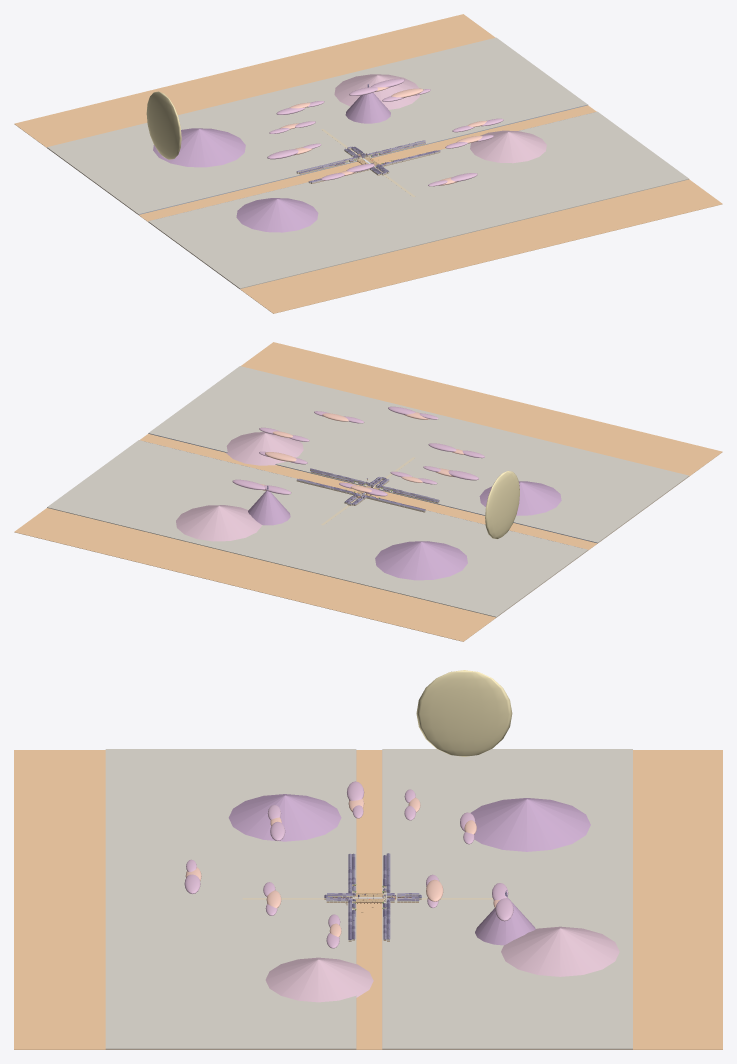
The model's file is stage_town.glb.
3 renders of one model, top to bottom at view 1: azimuth 30°, elevation 25°; view 2: azimuth 150°, elevation 25°; view 3: azimuth 270°, elevation 25°, orthographic. The views are drawn at different scales.
Visible parts, largest first — view 1: river_box_004, river_box_002, river_box_001, background_cone_010, background_cone_013, background_cone_012, background_sph_001, background_cone_011, background_cone_014, river_box_003; view 2: river_box_004, river_box_002, river_box_001, background_cone_010, background_cone_011, background_cone_012, background_sph_001, background_cone_013, background_cone_014, river_box_005; view 3: river_box_004, river_box_001, river_box_002, background_sph_001, background_cone_010, background_cone_011, background_cone_013, background_cone_012, background_cone_014.
Part boxes in pixels (x1,y1,x2,y2): river_box_004: (148, 111, 688, 288); river_box_002: (47, 37, 587, 214); river_box_001: (14, 14, 722, 313); background_cone_010: (153, 128, 245, 167); background_cone_013: (236, 198, 318, 232); background_cone_012: (470, 130, 546, 163); background_sph_001: (146, 91, 181, 159); background_cone_011: (334, 74, 419, 109); background_cone_014: (345, 92, 390, 123); river_box_003: (138, 104, 587, 214); river_box_004: (149, 366, 688, 542); river_box_002: (47, 440, 587, 617); river_box_001: (14, 342, 722, 641); background_cone_010: (375, 541, 467, 580); background_cone_011: (176, 505, 261, 541); background_cone_012: (226, 432, 303, 465); background_sph_001: (485, 471, 519, 539); background_cone_013: (479, 481, 561, 515); background_cone_014: (248, 490, 290, 525); river_box_005: (148, 433, 597, 543); river_box_004: (105, 749, 355, 1049); river_box_001: (14, 750, 722, 1049); river_box_002: (382, 749, 632, 1049); background_sph_001: (416, 670, 512, 756); background_cone_010: (471, 798, 590, 851); background_cone_011: (501, 926, 619, 976); background_cone_013: (228, 794, 341, 841); background_cone_012: (265, 957, 373, 1002); background_cone_014: (475, 898, 535, 945).
Bounding box in the file's own units: 1700 × 320 × 1700.
